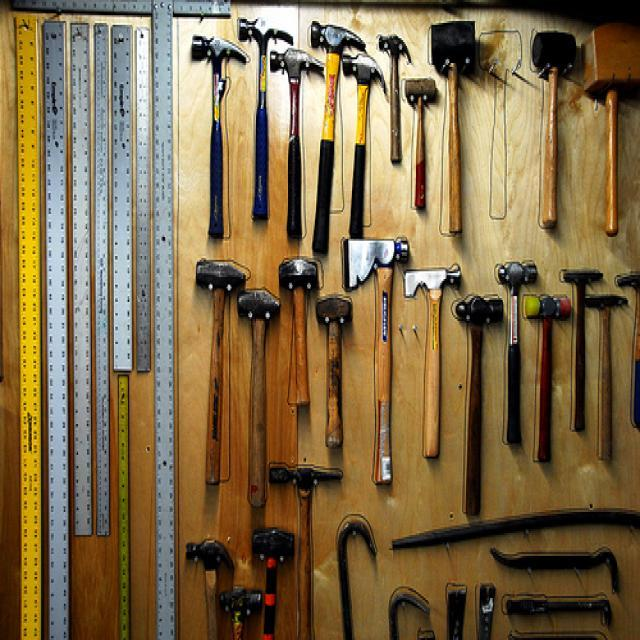hammer: (184, 31, 254, 247), (188, 255, 252, 490), (445, 288, 508, 526), (266, 458, 348, 640), (305, 8, 365, 251), (267, 37, 333, 254), (234, 8, 296, 229), (230, 284, 288, 512), (426, 16, 484, 243), (526, 22, 583, 235), (342, 40, 392, 254), (579, 288, 633, 468), (493, 252, 541, 449), (522, 292, 575, 469), (558, 264, 608, 440), (274, 251, 324, 418), (312, 289, 360, 456), (179, 525, 242, 640), (243, 512, 298, 640), (402, 61, 440, 224), (374, 24, 412, 178), (617, 262, 640, 449), (211, 578, 269, 640)
